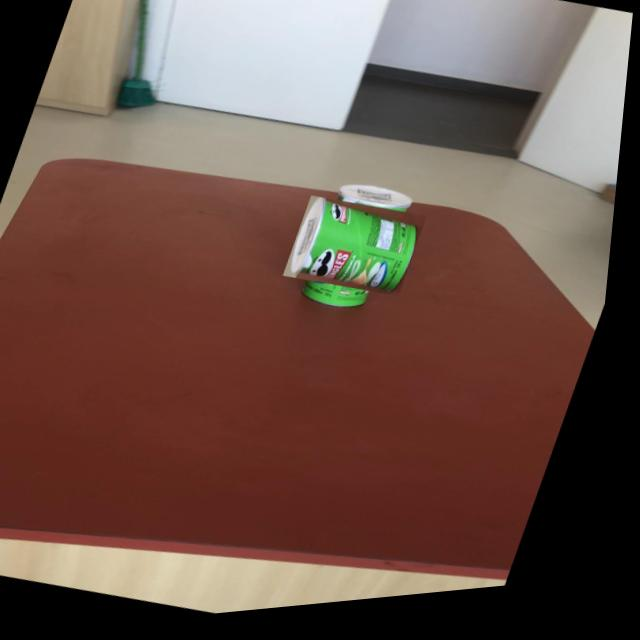a pringles: (293, 186, 428, 320)
